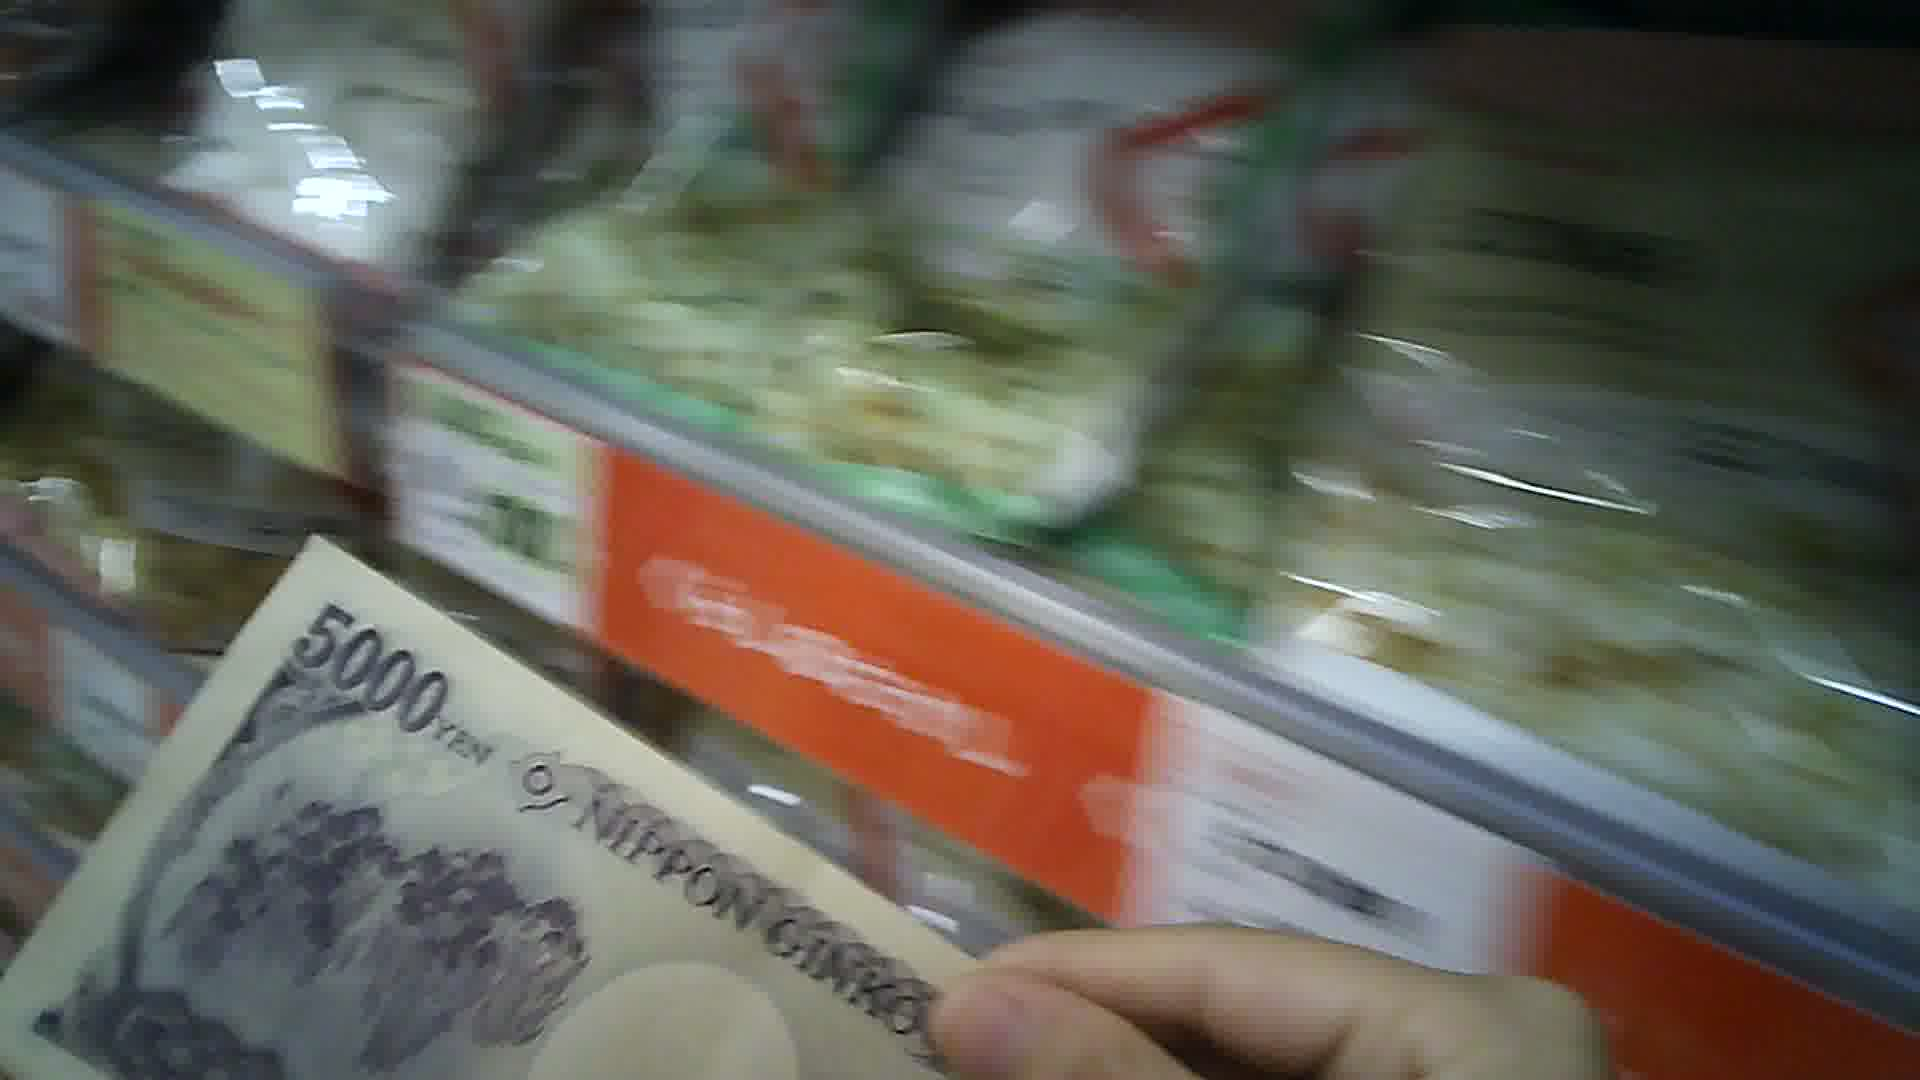5,000 Yen: (11, 520, 973, 1079)
